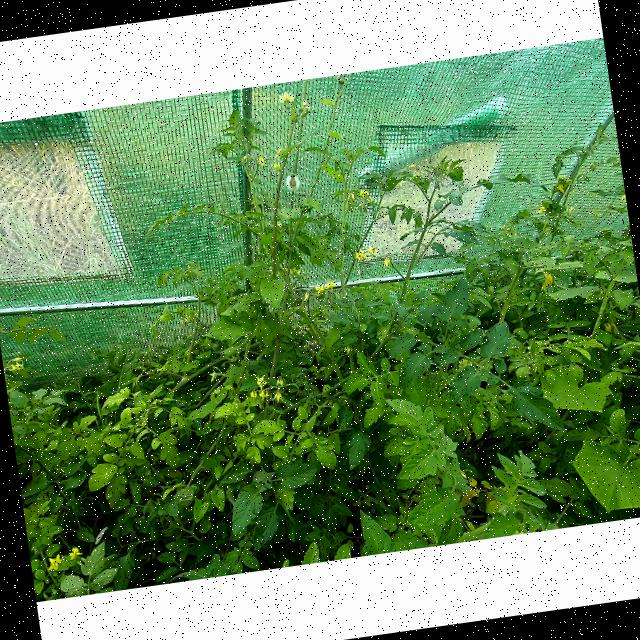Flowers: (548, 174, 573, 196), (540, 272, 558, 292), (6, 355, 27, 372), (48, 553, 65, 573), (278, 92, 296, 110), (500, 224, 520, 240), (66, 546, 84, 562), (255, 373, 271, 390), (296, 99, 312, 115), (534, 202, 552, 216), (270, 388, 286, 403), (209, 368, 226, 382), (351, 248, 368, 262), (274, 374, 288, 388), (258, 389, 272, 402), (364, 245, 378, 258), (541, 224, 556, 234), (381, 256, 392, 268), (256, 154, 266, 167), (324, 279, 336, 289), (314, 284, 324, 296), (356, 188, 368, 198), (180, 316, 192, 326), (343, 346, 354, 356), (271, 161, 281, 172), (250, 390, 260, 400), (564, 206, 576, 214), (274, 148, 283, 158), (366, 197, 376, 205), (348, 192, 357, 200), (242, 153, 250, 162)
